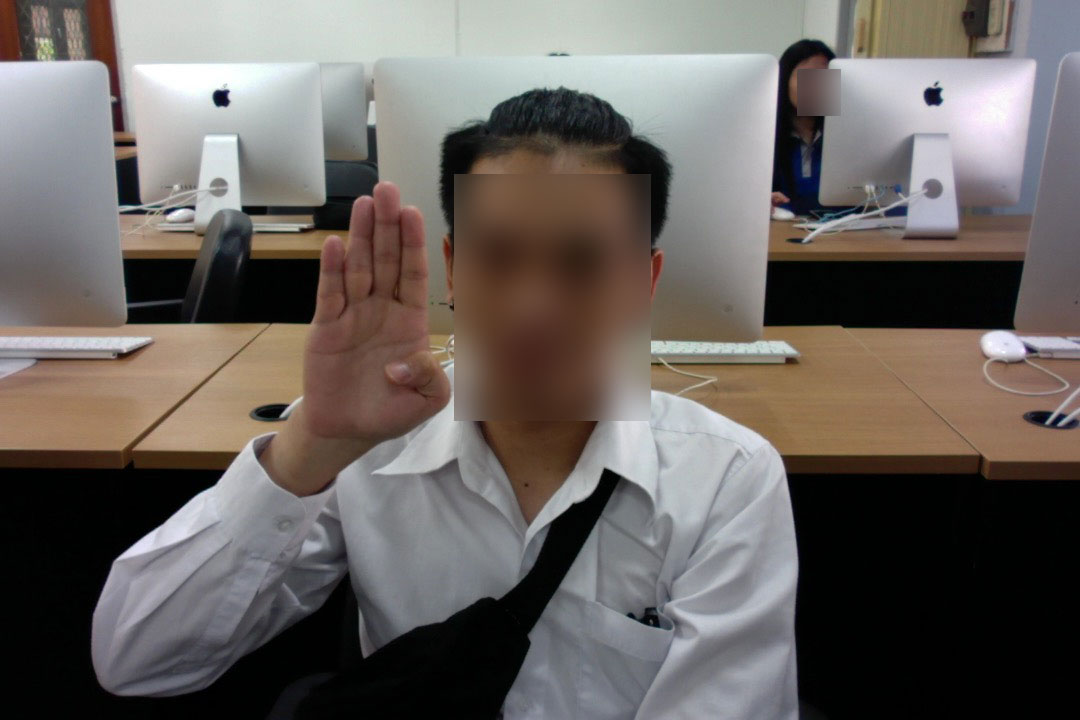bor: (298, 173, 457, 455)
